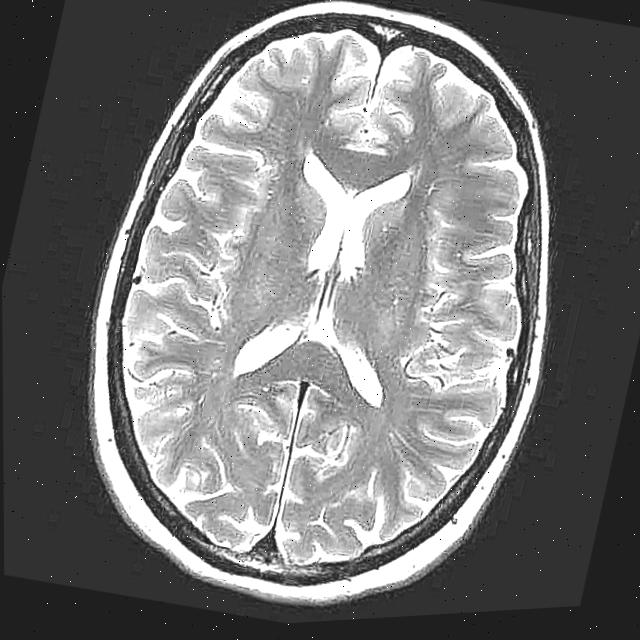NoTumor: (30, 0, 630, 638)
